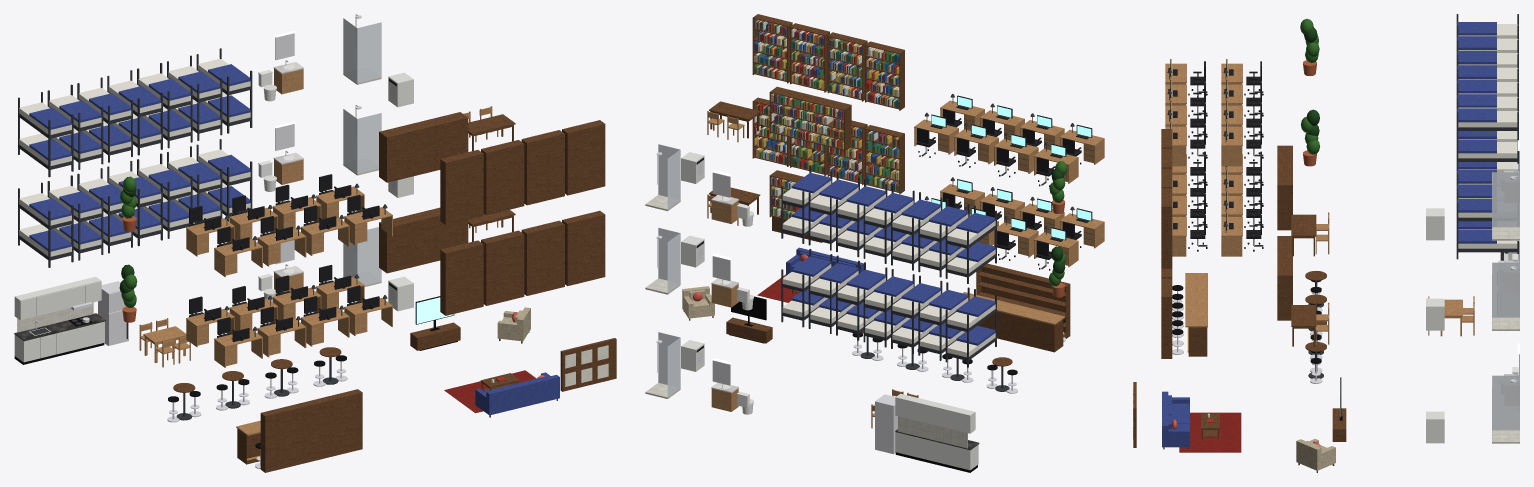
The model's file is i_adventurers_guild.gltf.
The picture shows the model from 3 angles, left to right: view 1: azimuth 30°, elevation 25°; view 2: azimuth 150°, elevation 25°; view 3: azimuth 270°, elevation 25°; orthographic projection. The views are drawn at different scales.
Visible parts, largest first — view 1: I_adventurers_guild; view 2: I_adventurers_guild; view 3: I_adventurers_guild.
Part boxes in pixels (x1,y1,x2,y2): I_adventurers_guild: (14, 14, 616, 472); I_adventurers_guild: (645, 14, 1104, 472); I_adventurers_guild: (1133, 14, 1519, 472).
Size of the model in its own units: 15.32 by 9.4 by 12.42.
Materials: 31 (10 with a texture image).
